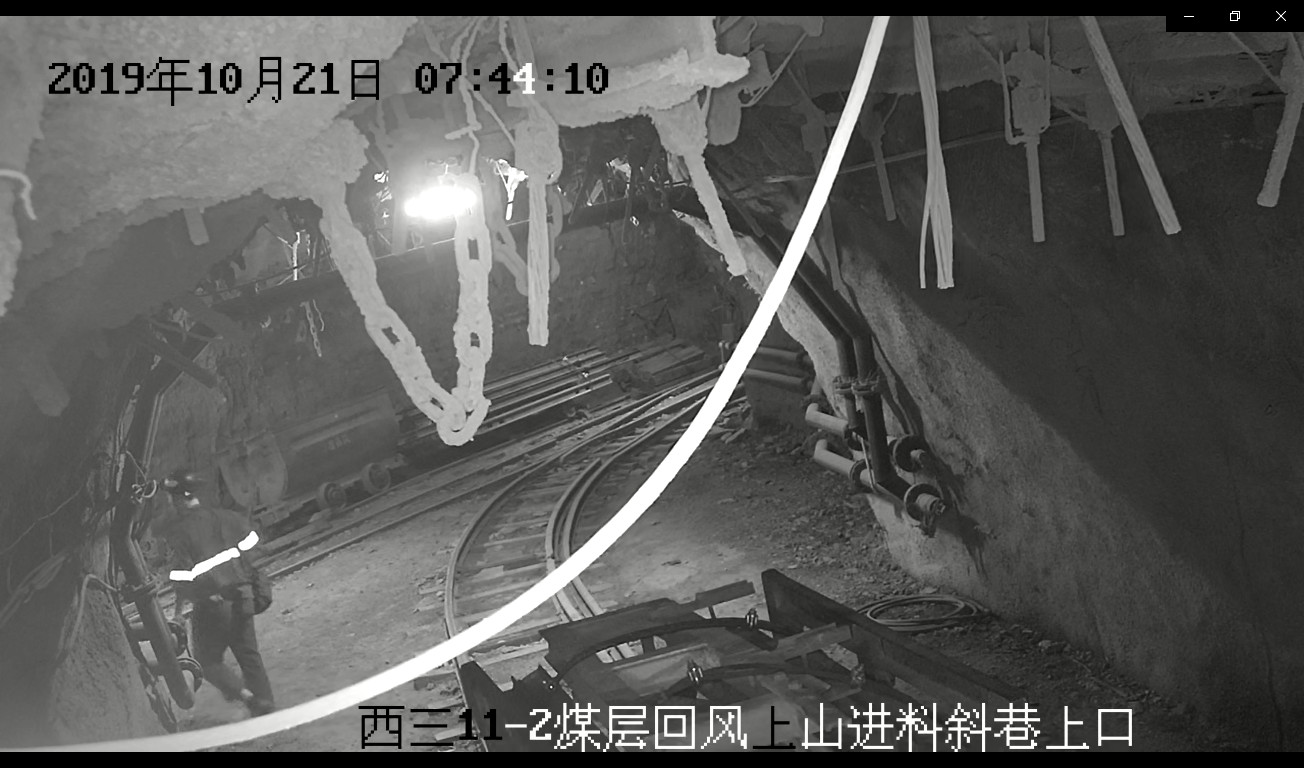helmet: (159, 471, 207, 498)
